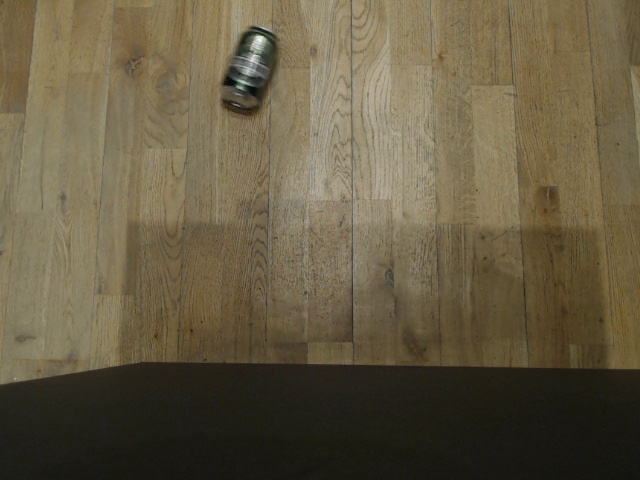beer: (218, 22, 280, 112)
